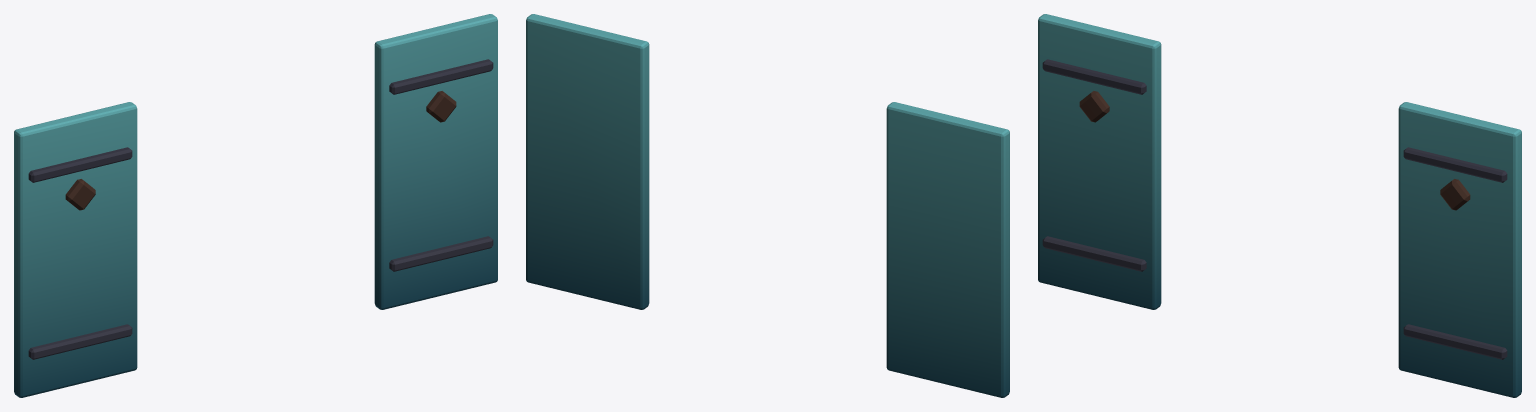
The model's file is shutters.glb.
3 renders of one model, left to right at view 1: azimuth 30°, elevation 25°; view 2: azimuth 150°, elevation 25°; view 3: azimuth 330°, elevation 25°, orthographic.
Parts seen in each view (by area): view 1: Shutters; view 2: Shutters; view 3: Shutters.
Boxes of the visible parts, x1=… form: Shutters: x1=14, y1=14, x2=497, y2=397; Shutters: x1=526, y1=14, x2=1009, y2=397; Shutters: x1=1038, y1=14, x2=1521, y2=397.
Bounding box in the file's own units: 1.7 × 0.9 × 0.0725.
